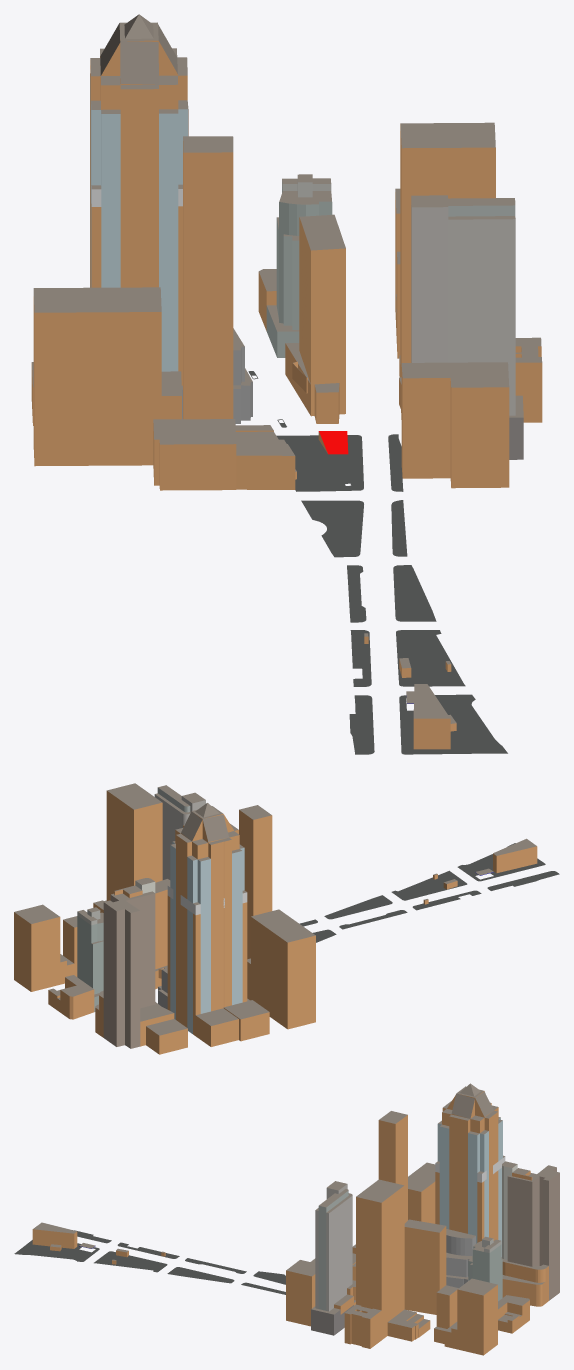
3 views of the same model, one above another, from view 1: azimuth 30°, elevation 25°; view 2: azimuth 150°, elevation 25°; view 3: azimuth 270°, elevation 25° (orthographic). The views are drawn at different scales.
Parts seen in each view (by area): view 1: map_5osm_buildings, map_5osm_areas_pedestrian; view 2: map_5osm_buildings, map_5osm_areas_pedestrian; view 3: map_5osm_buildings, map_5osm_areas_pedestrian.
Boxes of the visible parts, box(x1,y1,x2,y2) form: map_5osm_buildings: box(31, 14, 542, 749); map_5osm_areas_pedestrian: box(248, 371, 507, 754); map_5osm_buildings: box(14, 783, 537, 1054); map_5osm_areas_pedestrian: box(299, 843, 559, 942); map_5osm_buildings: box(32, 1083, 559, 1355); map_5osm_areas_pedestrian: box(14, 1230, 285, 1294).
Size of the model in its own units: 318 by 219 by 564.
